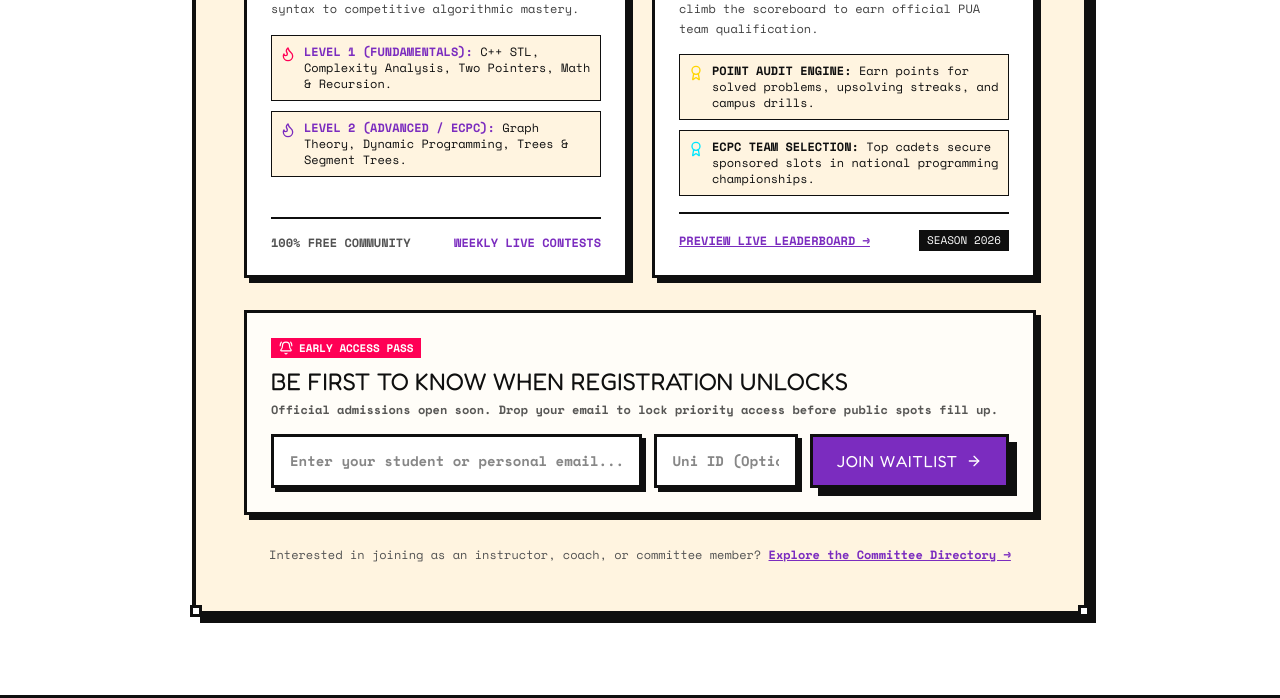
Test: ApplicationSection (Wait For It) › submits the waitlist form and displays priority confirmation state
(page scrolled)
Type "cadet@pua.edu.eg" into the field named "Email address for waitlist notification" at (456, 461), box [271,434,642,488]
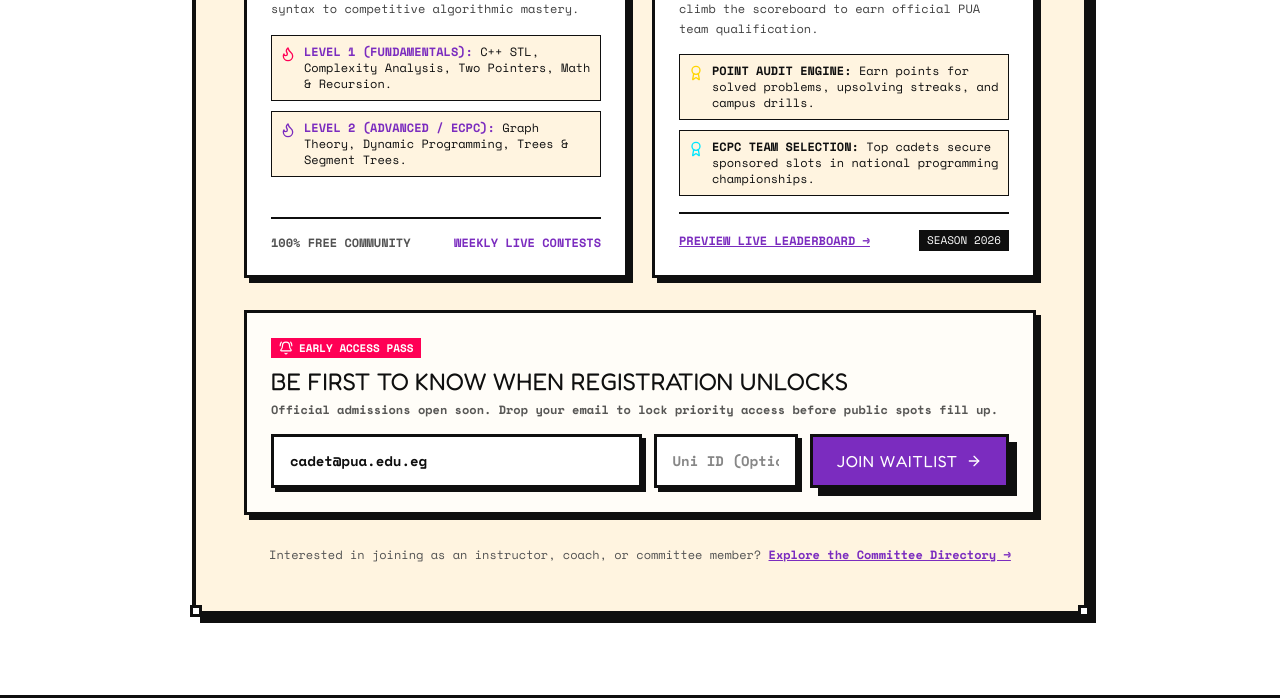
Type "202300481" into the field named "University ID (optional)" at (726, 461), box [654,434,798,488]
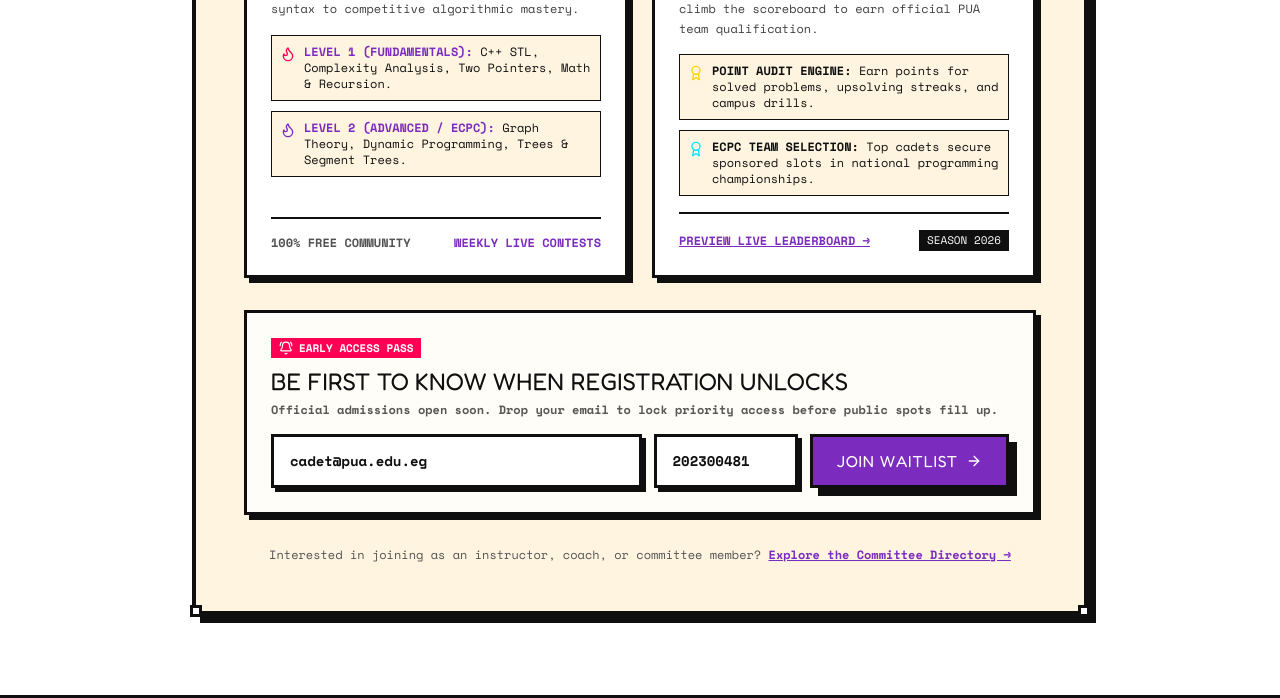
Click the button "JOIN WAITLIST" at (909, 461), box [810,434,1009,488]
(page scrolled)
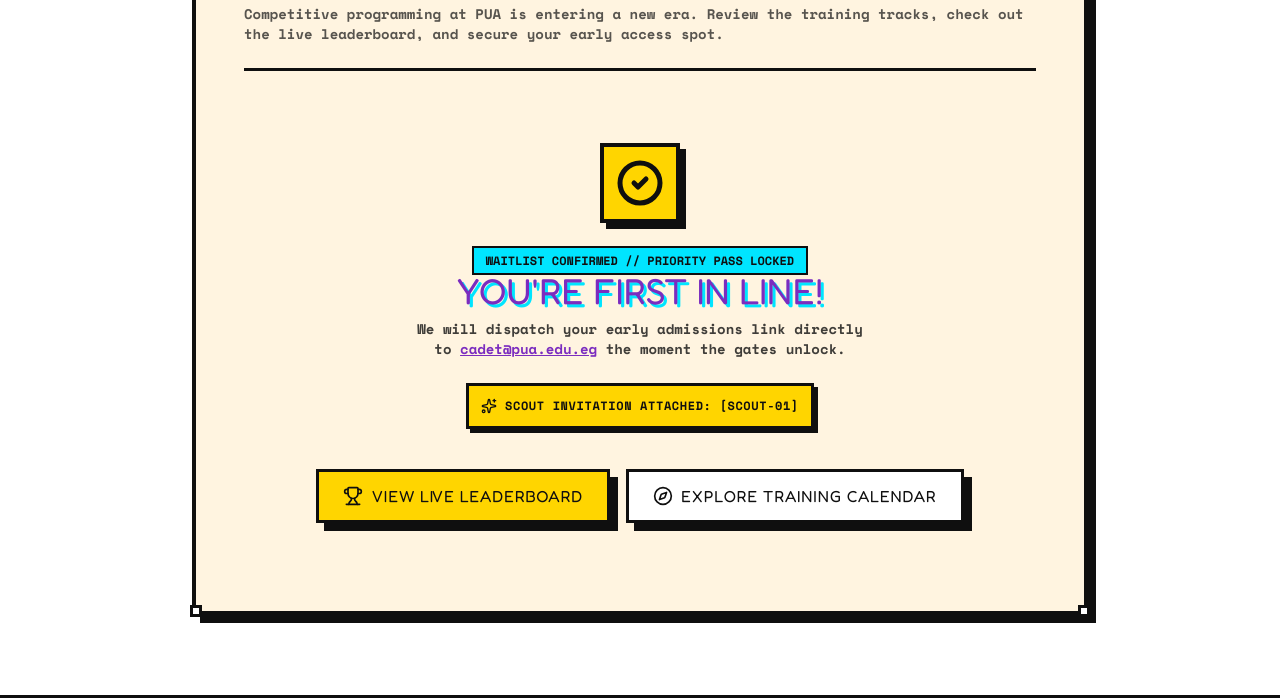
Result: the heading "YOU'RE FIRST IN LINE!" is shown at [457,269,823,312]
Result: the text "WAITLIST CONFIRMED // PRIORITY PASS LOCKED" is shown at [472,246,808,275]
Result: the text "cadet@pua.edu.eg" is shown at [460,338,597,359]
